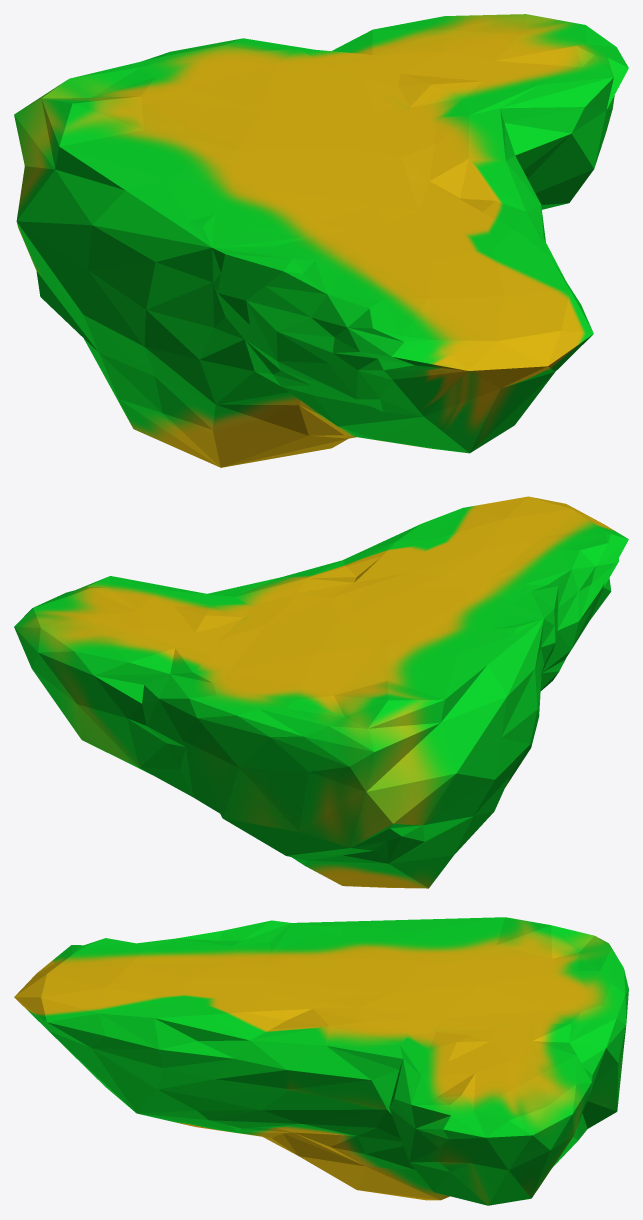
Rendered from roadL.obj.
The picture shows the model from 3 angles, top to bottom: view 1: azimuth 30°, elevation 25°; view 2: azimuth 150°, elevation 25°; view 3: azimuth 270°, elevation 25°; orthographic projection. The views are drawn at different scales.
Visible parts, largest first — view 1: Ico_球體.021; view 2: Ico_球體.021; view 3: Ico_球體.021.
Boxes of the visible parts, x1,y1,x2,y2 form: Ico_球體.021: (14, 14, 628, 467); Ico_球體.021: (14, 496, 628, 888); Ico_球體.021: (14, 917, 628, 1205).
Size of the model in its own units: 189 by 101 by 230.
Materials: 1 (1 with a texture image).
